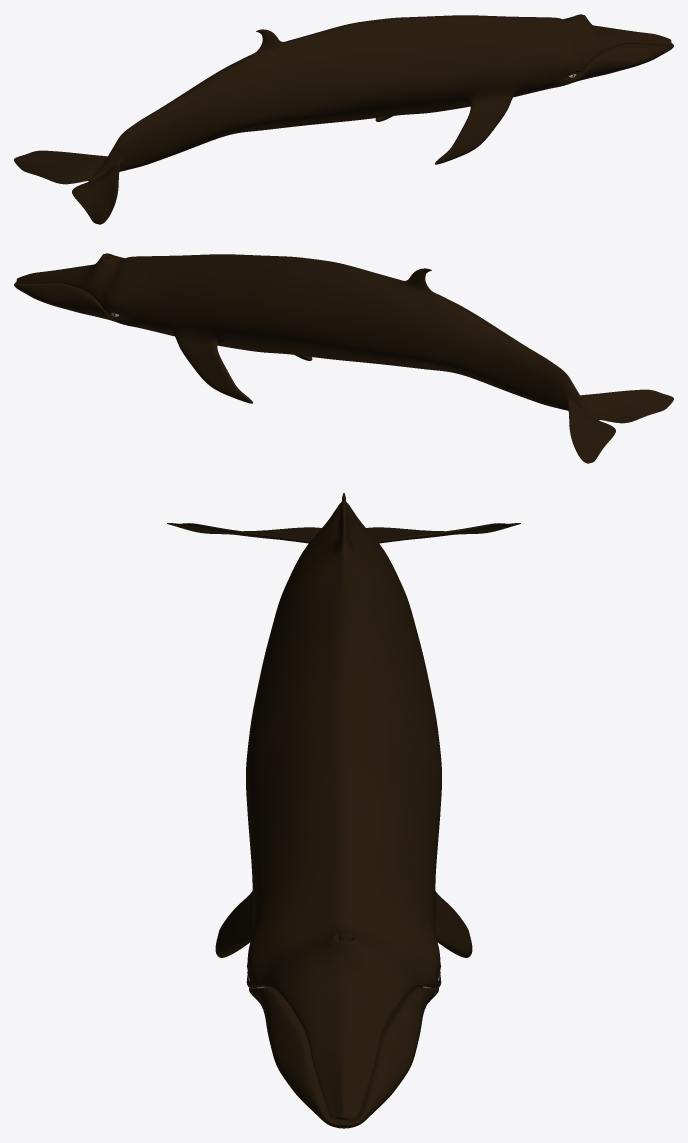
File: 7.RocualNorteño.glb
3 renders of one model, top to bottom at view 1: azimuth 30°, elevation 25°; view 2: azimuth 150°, elevation 25°; view 3: azimuth 270°, elevation 25°, orthographic. The views are drawn at different scales.
Parts seen in each view (by area): view 1: Cube; view 2: Cube; view 3: Cube.
Part boxes in pixels (bbox=[...]): Cube: bbox=[14, 14, 673, 224]; Cube: bbox=[14, 253, 673, 463]; Cube: bbox=[167, 493, 520, 1128].
Size of the model in its own units: 14.92 by 3.47 by 3.73.
Materials: 2 (1 with a texture image).
